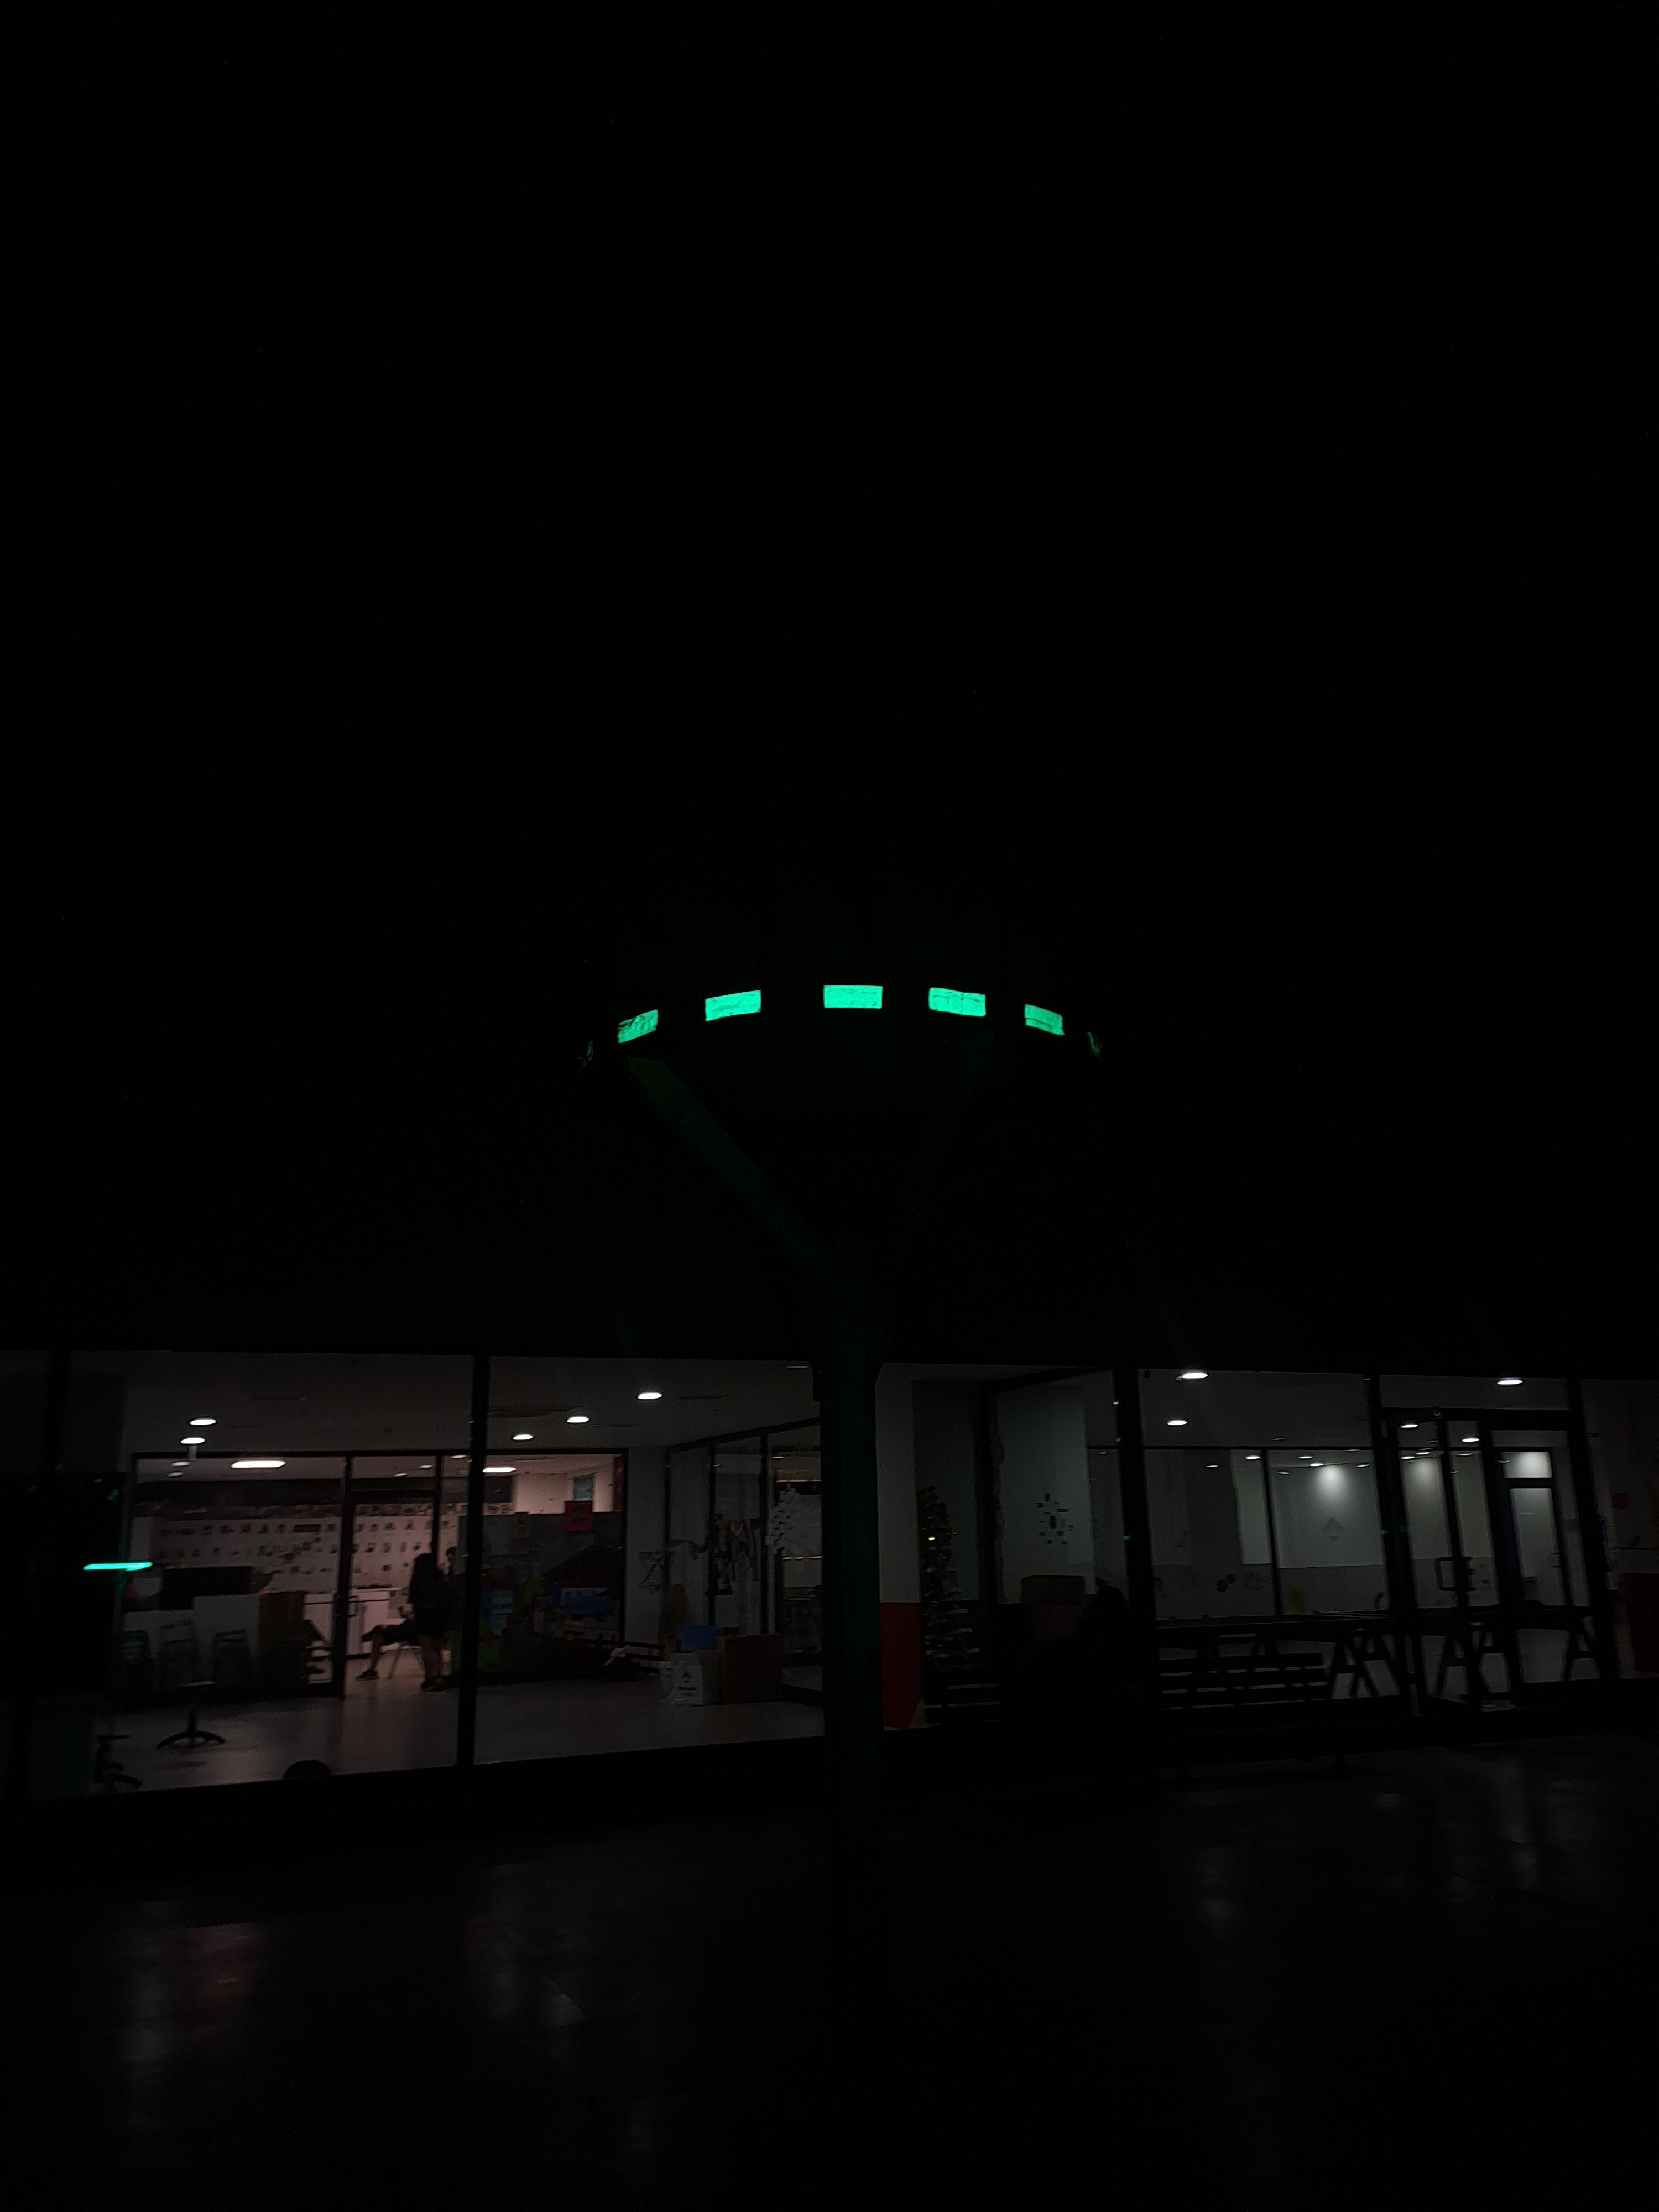hoop: (610, 979, 1075, 1050)
